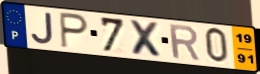0: (203, 26, 231, 67)
7: (99, 16, 126, 54)
J: (30, 12, 55, 46)
P: (59, 11, 91, 51)
R: (167, 23, 202, 63)
X: (127, 18, 166, 60)
